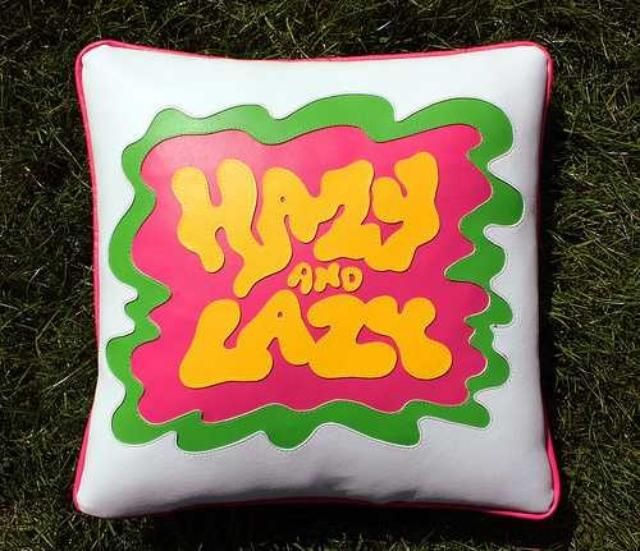pillow: (71, 37, 561, 520)
